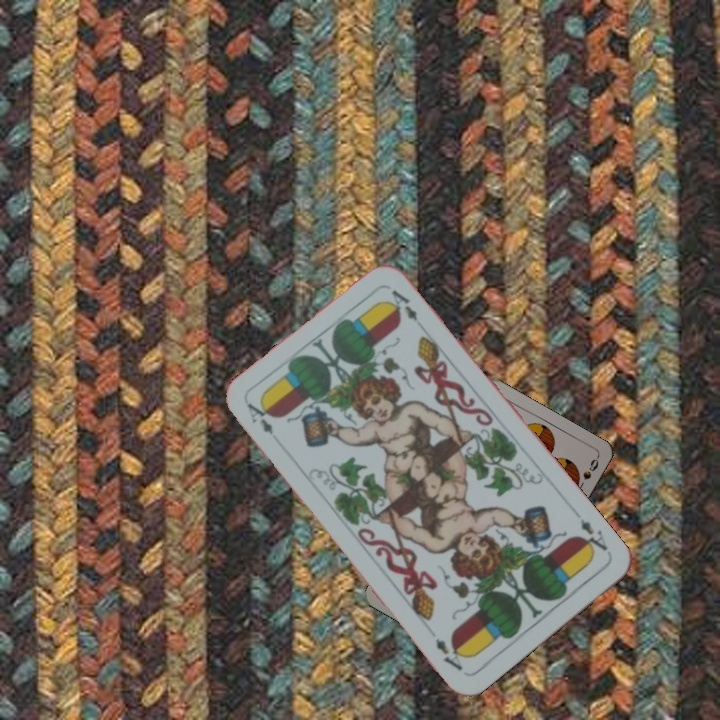EA: (574, 515, 611, 558), (243, 398, 276, 438)
